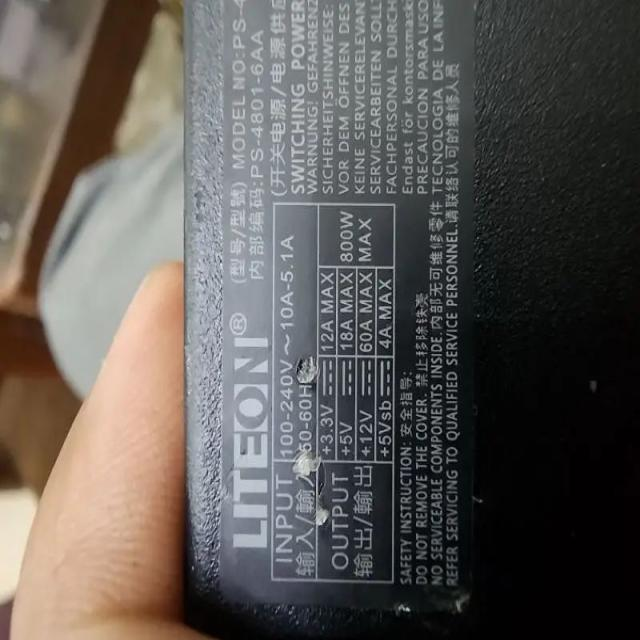electronic: (180, 0, 478, 637)
